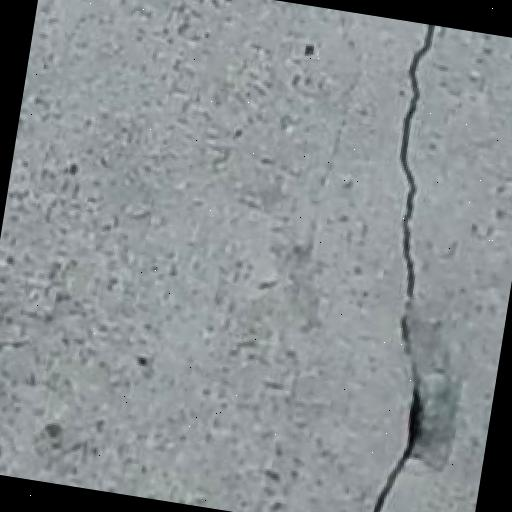spalling: (358, 24, 467, 512)
